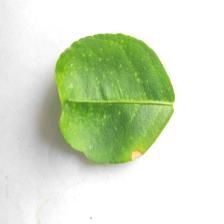greening: (64, 67, 158, 167)
